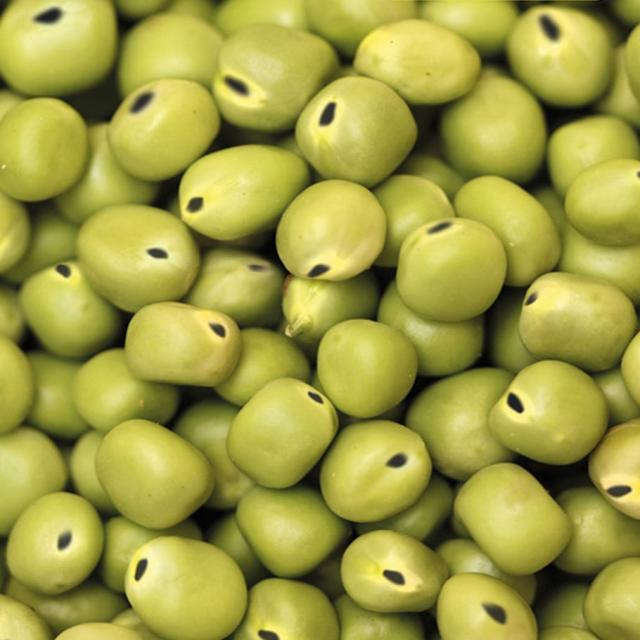arvejas: (10, 68, 625, 601)
